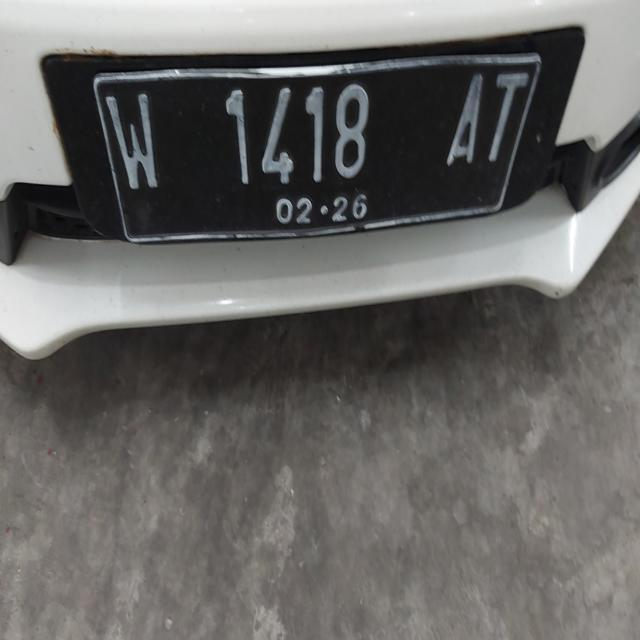1: (218, 81, 256, 200), (300, 78, 331, 182)
4: (256, 82, 300, 198)
8: (333, 76, 375, 183)
A: (444, 60, 490, 177)
T: (483, 60, 528, 180)
W: (100, 90, 172, 211)
